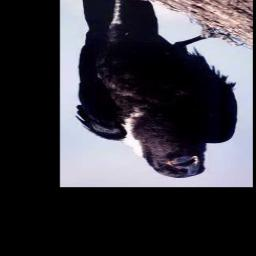Crow: (73, 0, 241, 180)
